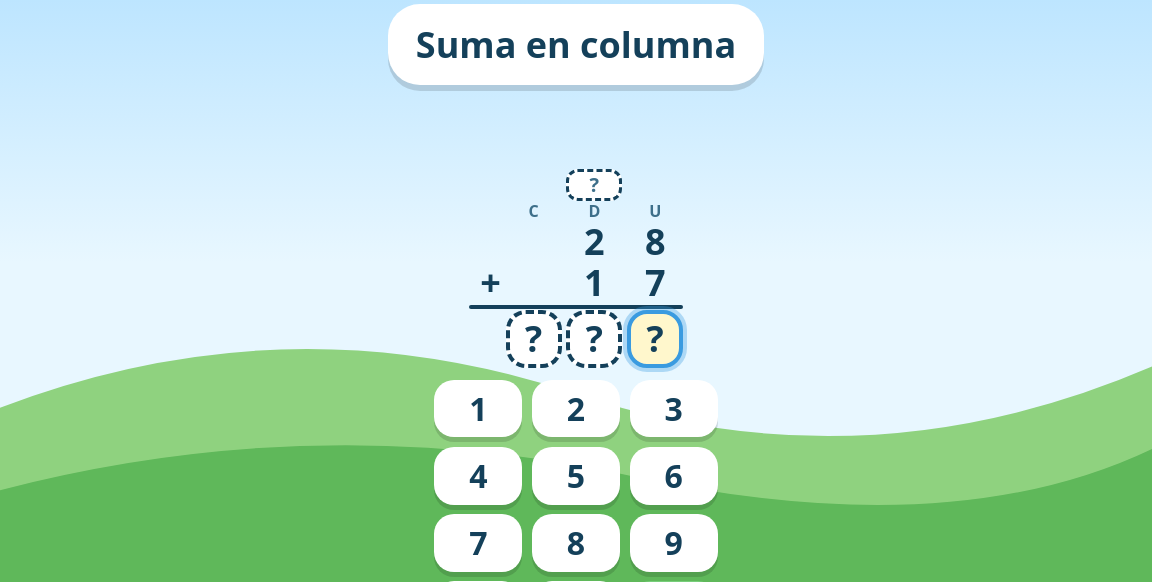
Test: Ejercicio en columna: sumas llevando › una llevada equivocada no impide acertar y al fallar se vacía todo
Click the button "6": (674, 476) [630,447,718,504]
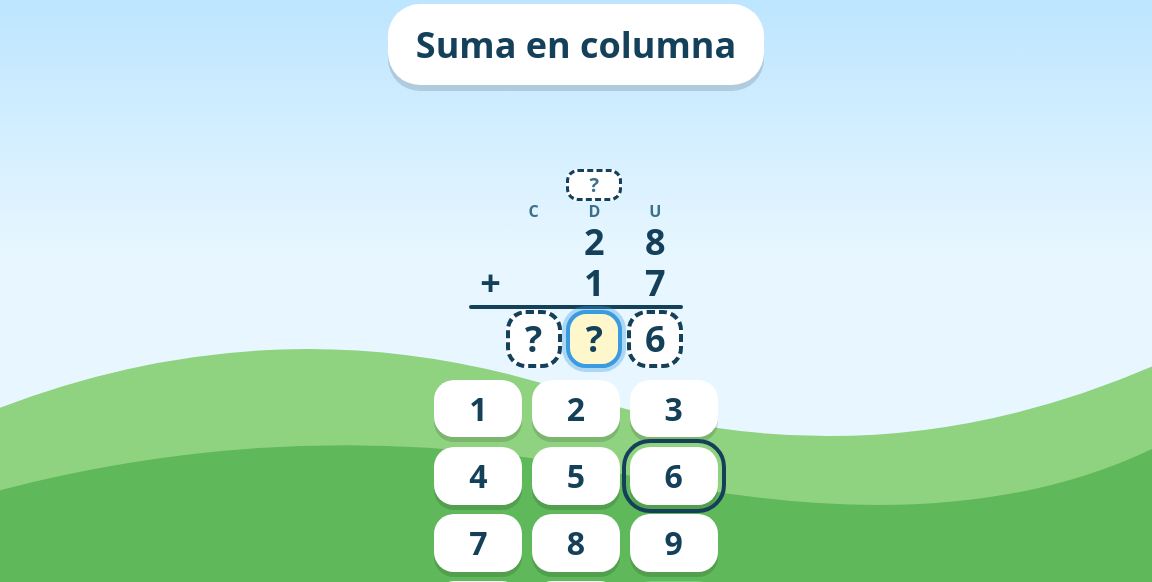
Click the button named "Llevada": (594, 185) [566,169,622,201]
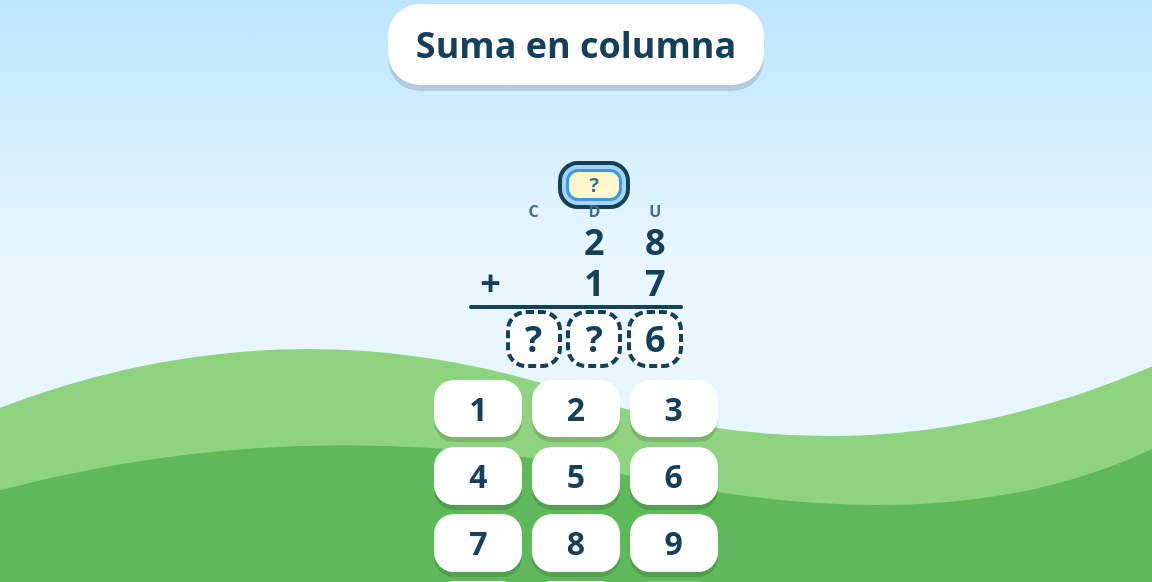
Click the button "1": (478, 408) [434,380,522,437]
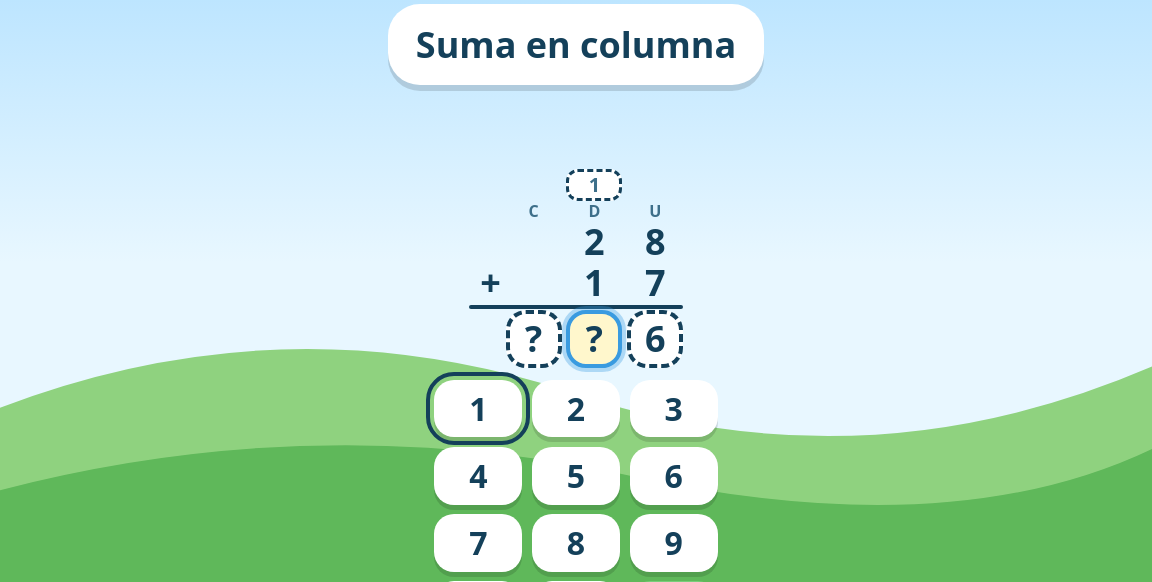
Click the button "4": (478, 476) [434,447,522,504]
(page scrolled)
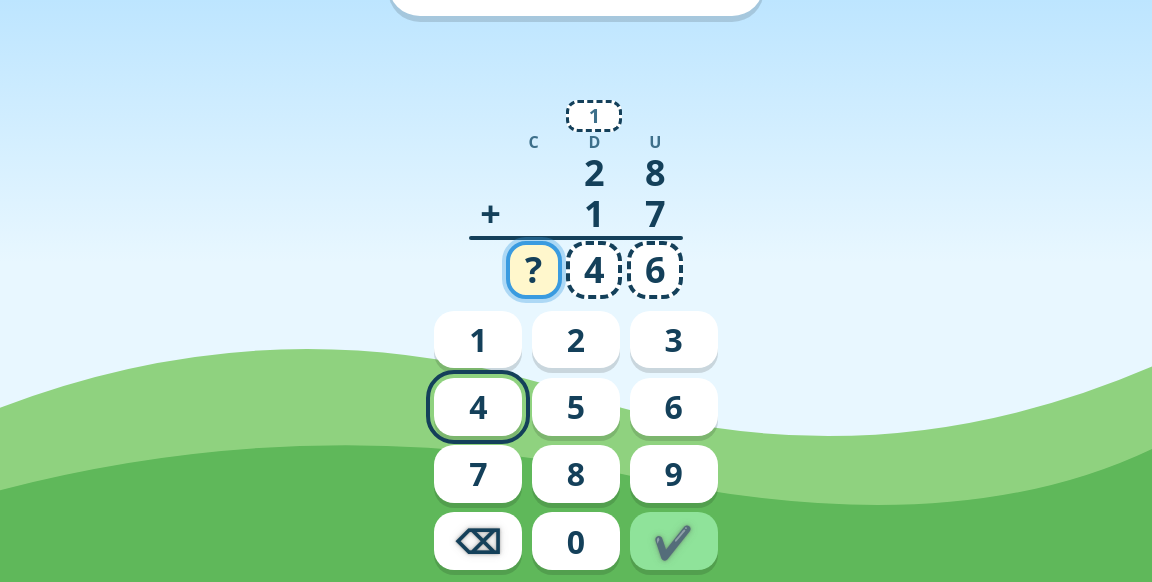
Click the button named "Comprobar": (674, 541) [630,512,718,570]
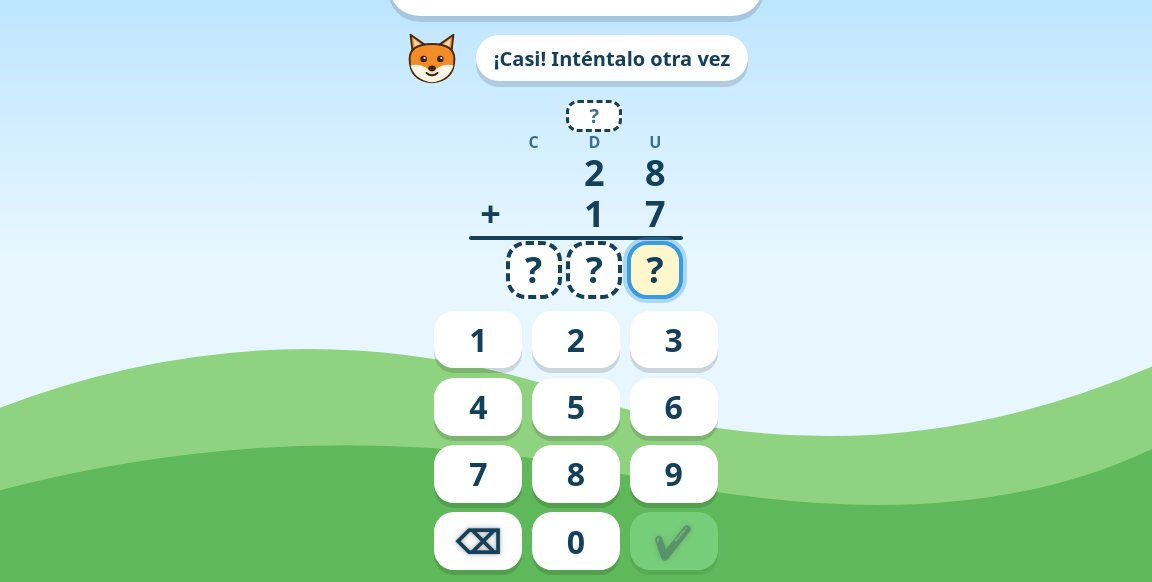
expect the text "¡Casi! Inténtalo otra vez" is shown: met, box [476,35,748,82]
expect the button named "Llevada" reads "?": met, box [566,100,622,132]
expect the button named "Unidades" reads "?": met, box [627,241,683,299]
